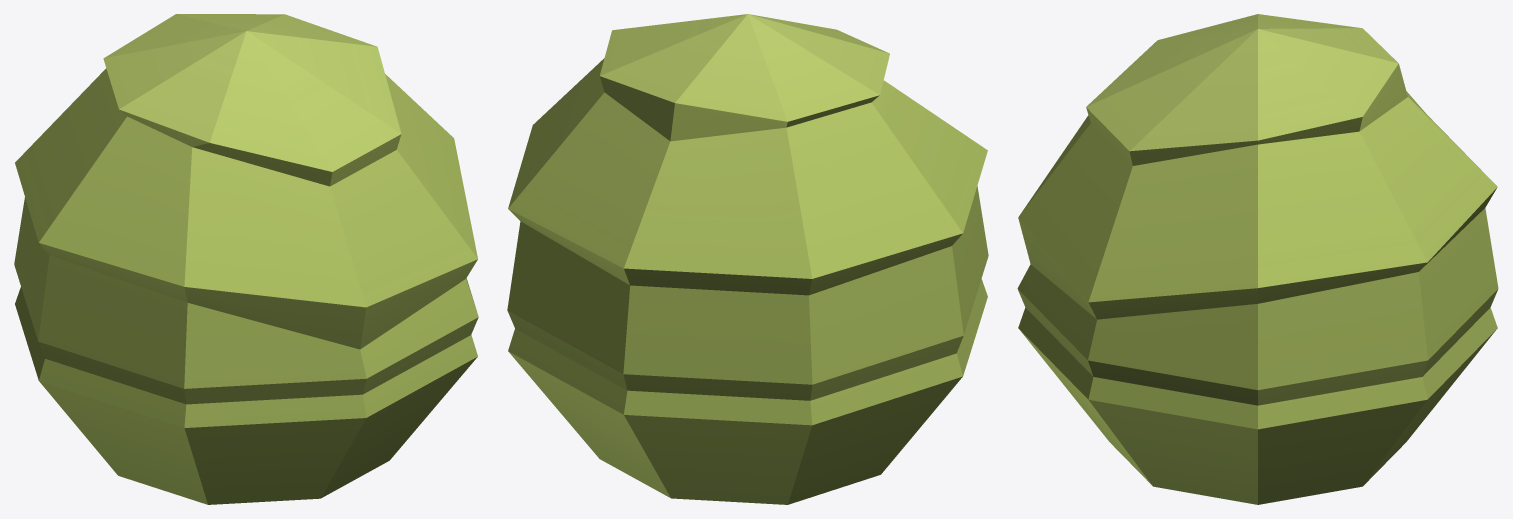
Rendered from Bush_01.fbx.
3 renders of one model, left to right at view 1: azimuth 30°, elevation 25°; view 2: azimuth 150°, elevation 25°; view 3: azimuth 270°, elevation 25°, orthographic. The views are drawn at different scales.
Visible parts, largest first — view 1: Bush; view 2: Bush; view 3: Bush.
Boxes of the visible parts, x1,y1,x2,y2 form: Bush: (14,14,478,504); Bush: (507,14,988,504); Bush: (1017,14,1498,504).
Bounding box in the file's own units: 191 × 181 × 191.
1 material, 1 textured.
